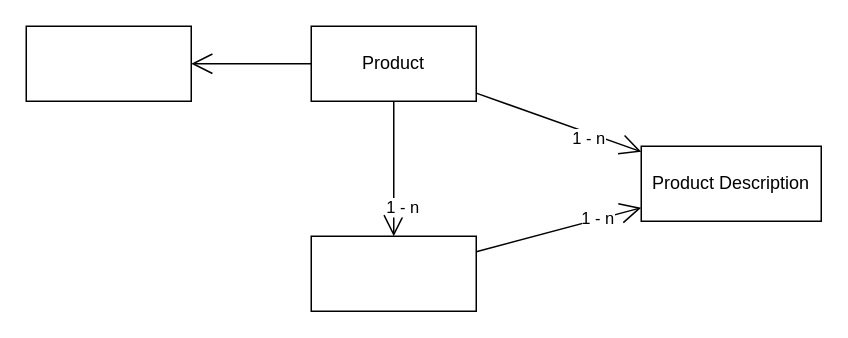
Some shapes in this 848 by 338 pixel diagram are drawn without their labels. Here are the shapes that lost their labels. From the top down, the centre of each, then its label:
the point at 108,63: Category
the point at 393,273: Product Variant
